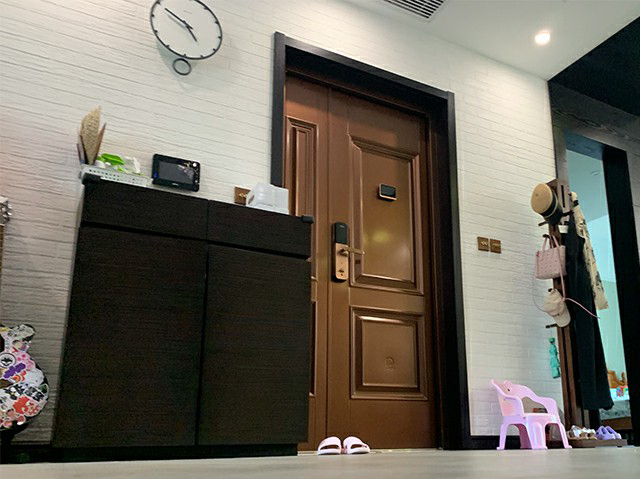cabinet: (51, 172, 316, 464)
slippers: (316, 436, 342, 455), (344, 436, 370, 455), (597, 424, 620, 440)
stool: (490, 377, 573, 451)
